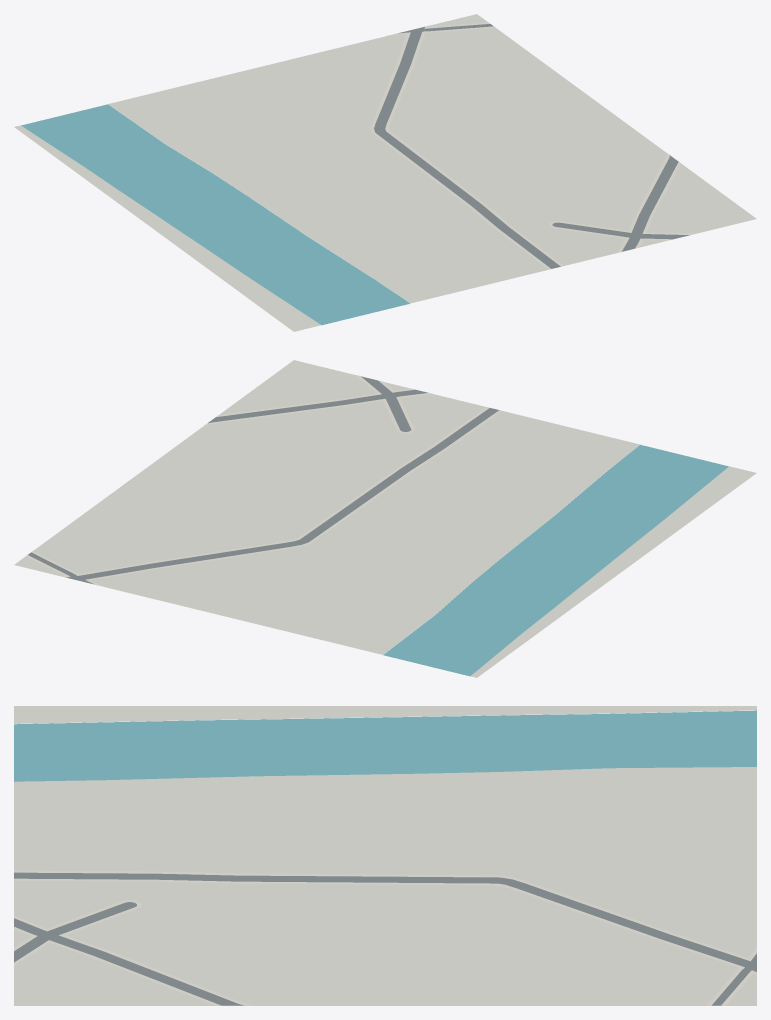
3 views of the same model, one above another, from view 1: azimuth 30°, elevation 25°; view 2: azimuth 150°, elevation 25°; view 3: azimuth 270°, elevation 25° (orthographic). The views are drawn at different scales.
Parts seen in each view (by area): view 1: city; view 2: city; view 3: city.
Part boxes in pixels (bbox=[...]): city: bbox=[14, 14, 756, 331]; city: bbox=[14, 360, 756, 677]; city: bbox=[14, 706, 756, 1005].
Bounding box in the file's own units: 477 × 0.4 × 500.
